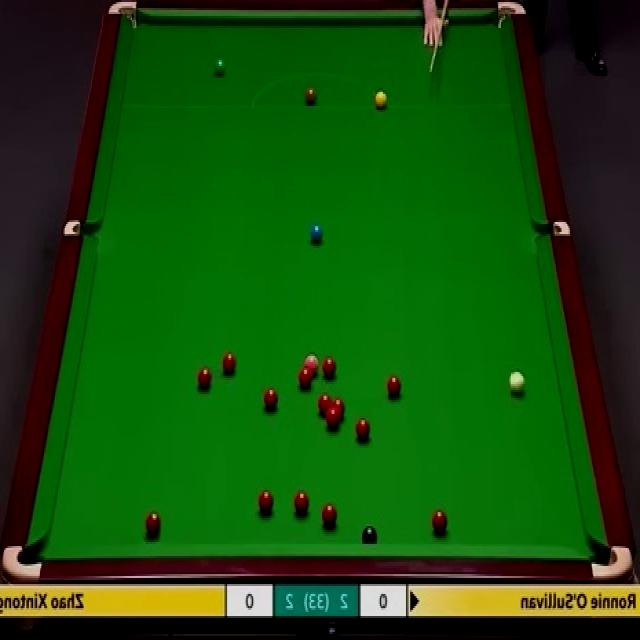black-ball: (361, 526, 378, 545)
blue-ball: (310, 220, 324, 245)
brown-ball: (305, 88, 317, 106)
green-ball: (213, 58, 228, 78)
pink-ball: (304, 354, 317, 376)
red-ball: (144, 509, 162, 539), (220, 349, 237, 378), (431, 509, 448, 534), (258, 489, 274, 515), (385, 377, 401, 401), (294, 491, 309, 516), (197, 366, 212, 391), (264, 387, 279, 412), (322, 503, 336, 528), (318, 394, 332, 418), (356, 418, 370, 441), (298, 366, 312, 388), (322, 359, 336, 378), (326, 410, 339, 430), (332, 398, 345, 418)
white-ball: (508, 367, 528, 398)
yellow-ball: (375, 89, 388, 109)
